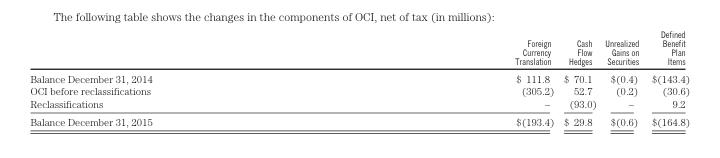table: (29, 28, 689, 127)
table column: (29, 28, 332, 127), (332, 28, 558, 127), (644, 28, 689, 127), (600, 28, 644, 127), (558, 28, 600, 127)
table column header: (29, 28, 689, 69)
table row: (29, 28, 689, 69), (29, 69, 689, 84), (29, 97, 689, 112), (29, 112, 689, 127), (29, 84, 689, 97)
